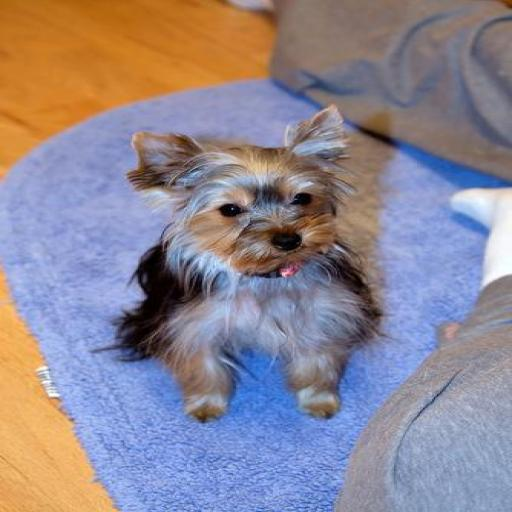dog_face: (121, 105, 342, 286)
